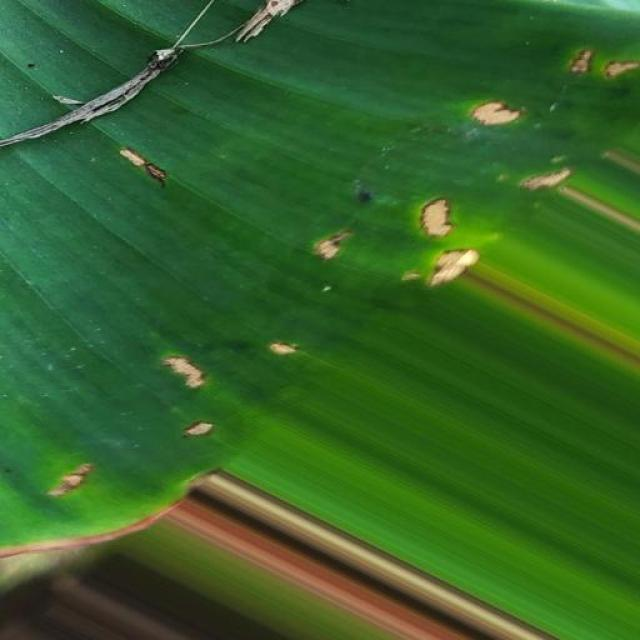Black_rot: (389, 189, 483, 289), (164, 341, 228, 452), (2, 516, 167, 554), (111, 124, 181, 206), (456, 91, 542, 142), (284, 223, 366, 275), (22, 459, 116, 502), (562, 44, 640, 94), (256, 323, 308, 375), (514, 164, 578, 198)
